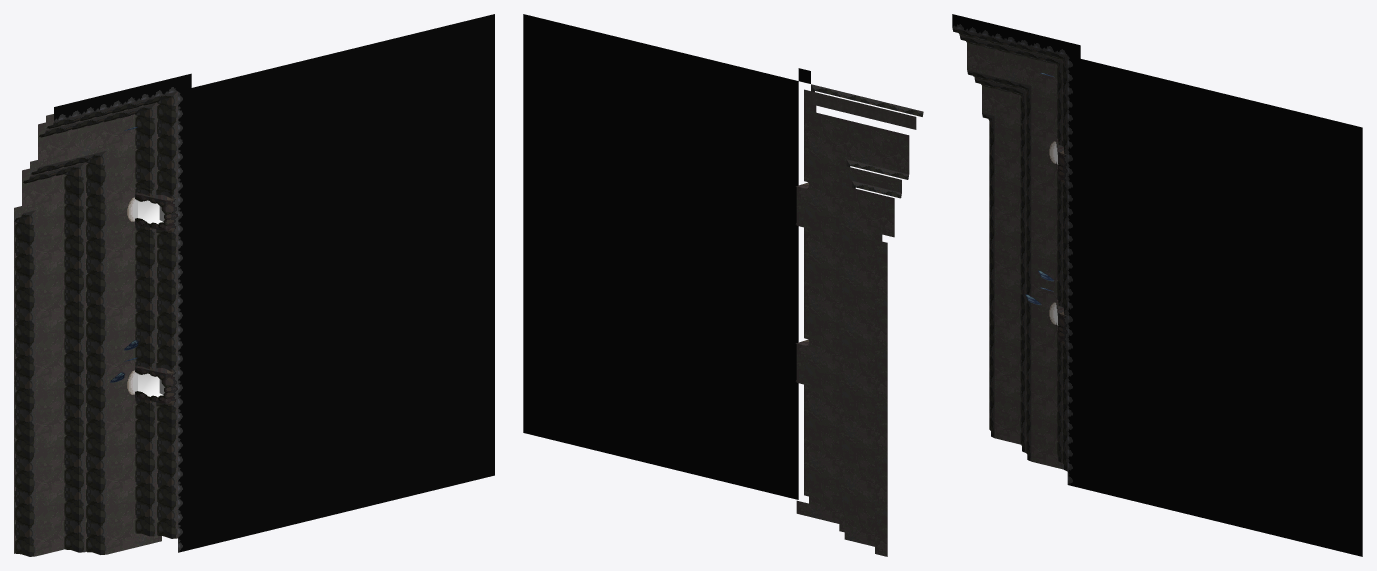
The model's file is HGRT-Caves-v1_19_16.obj.
The picture shows the model from 3 angles, left to right: view 1: azimuth 30°, elevation 25°; view 2: azimuth 150°, elevation 25°; view 3: azimuth 330°, elevation 25°; orthographic projection. The views are drawn at different scales.
Parts seen in each view (by area): view 1: map; view 2: map; view 3: map.
Boxes of the visible parts, bbox=[...] form: map: bbox=[14, 14, 494, 556]; map: bbox=[523, 14, 923, 556]; map: bbox=[952, 14, 1362, 556].
Size of the model in its own units: 32 by 33 by 5.
Materials: 10 (10 with a texture image).
